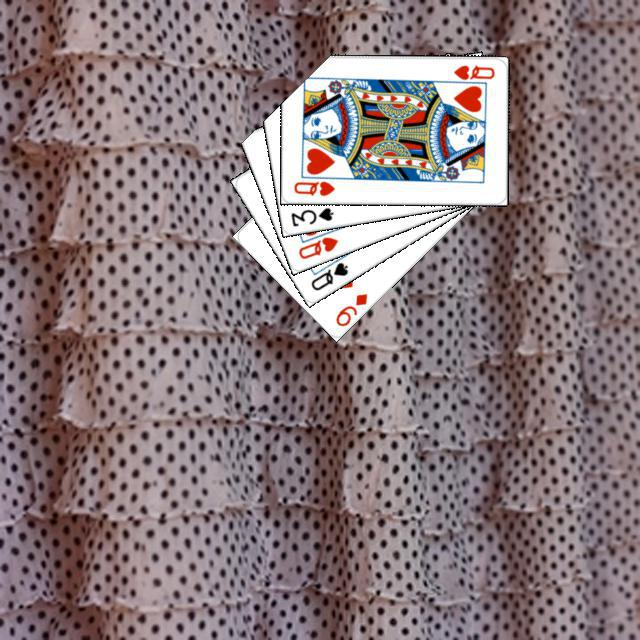3s: (286, 202, 335, 228)
9d: (330, 288, 369, 328)
Qh: (293, 232, 340, 261), (444, 60, 496, 85), (289, 176, 336, 198)
Qs: (306, 257, 350, 292)
